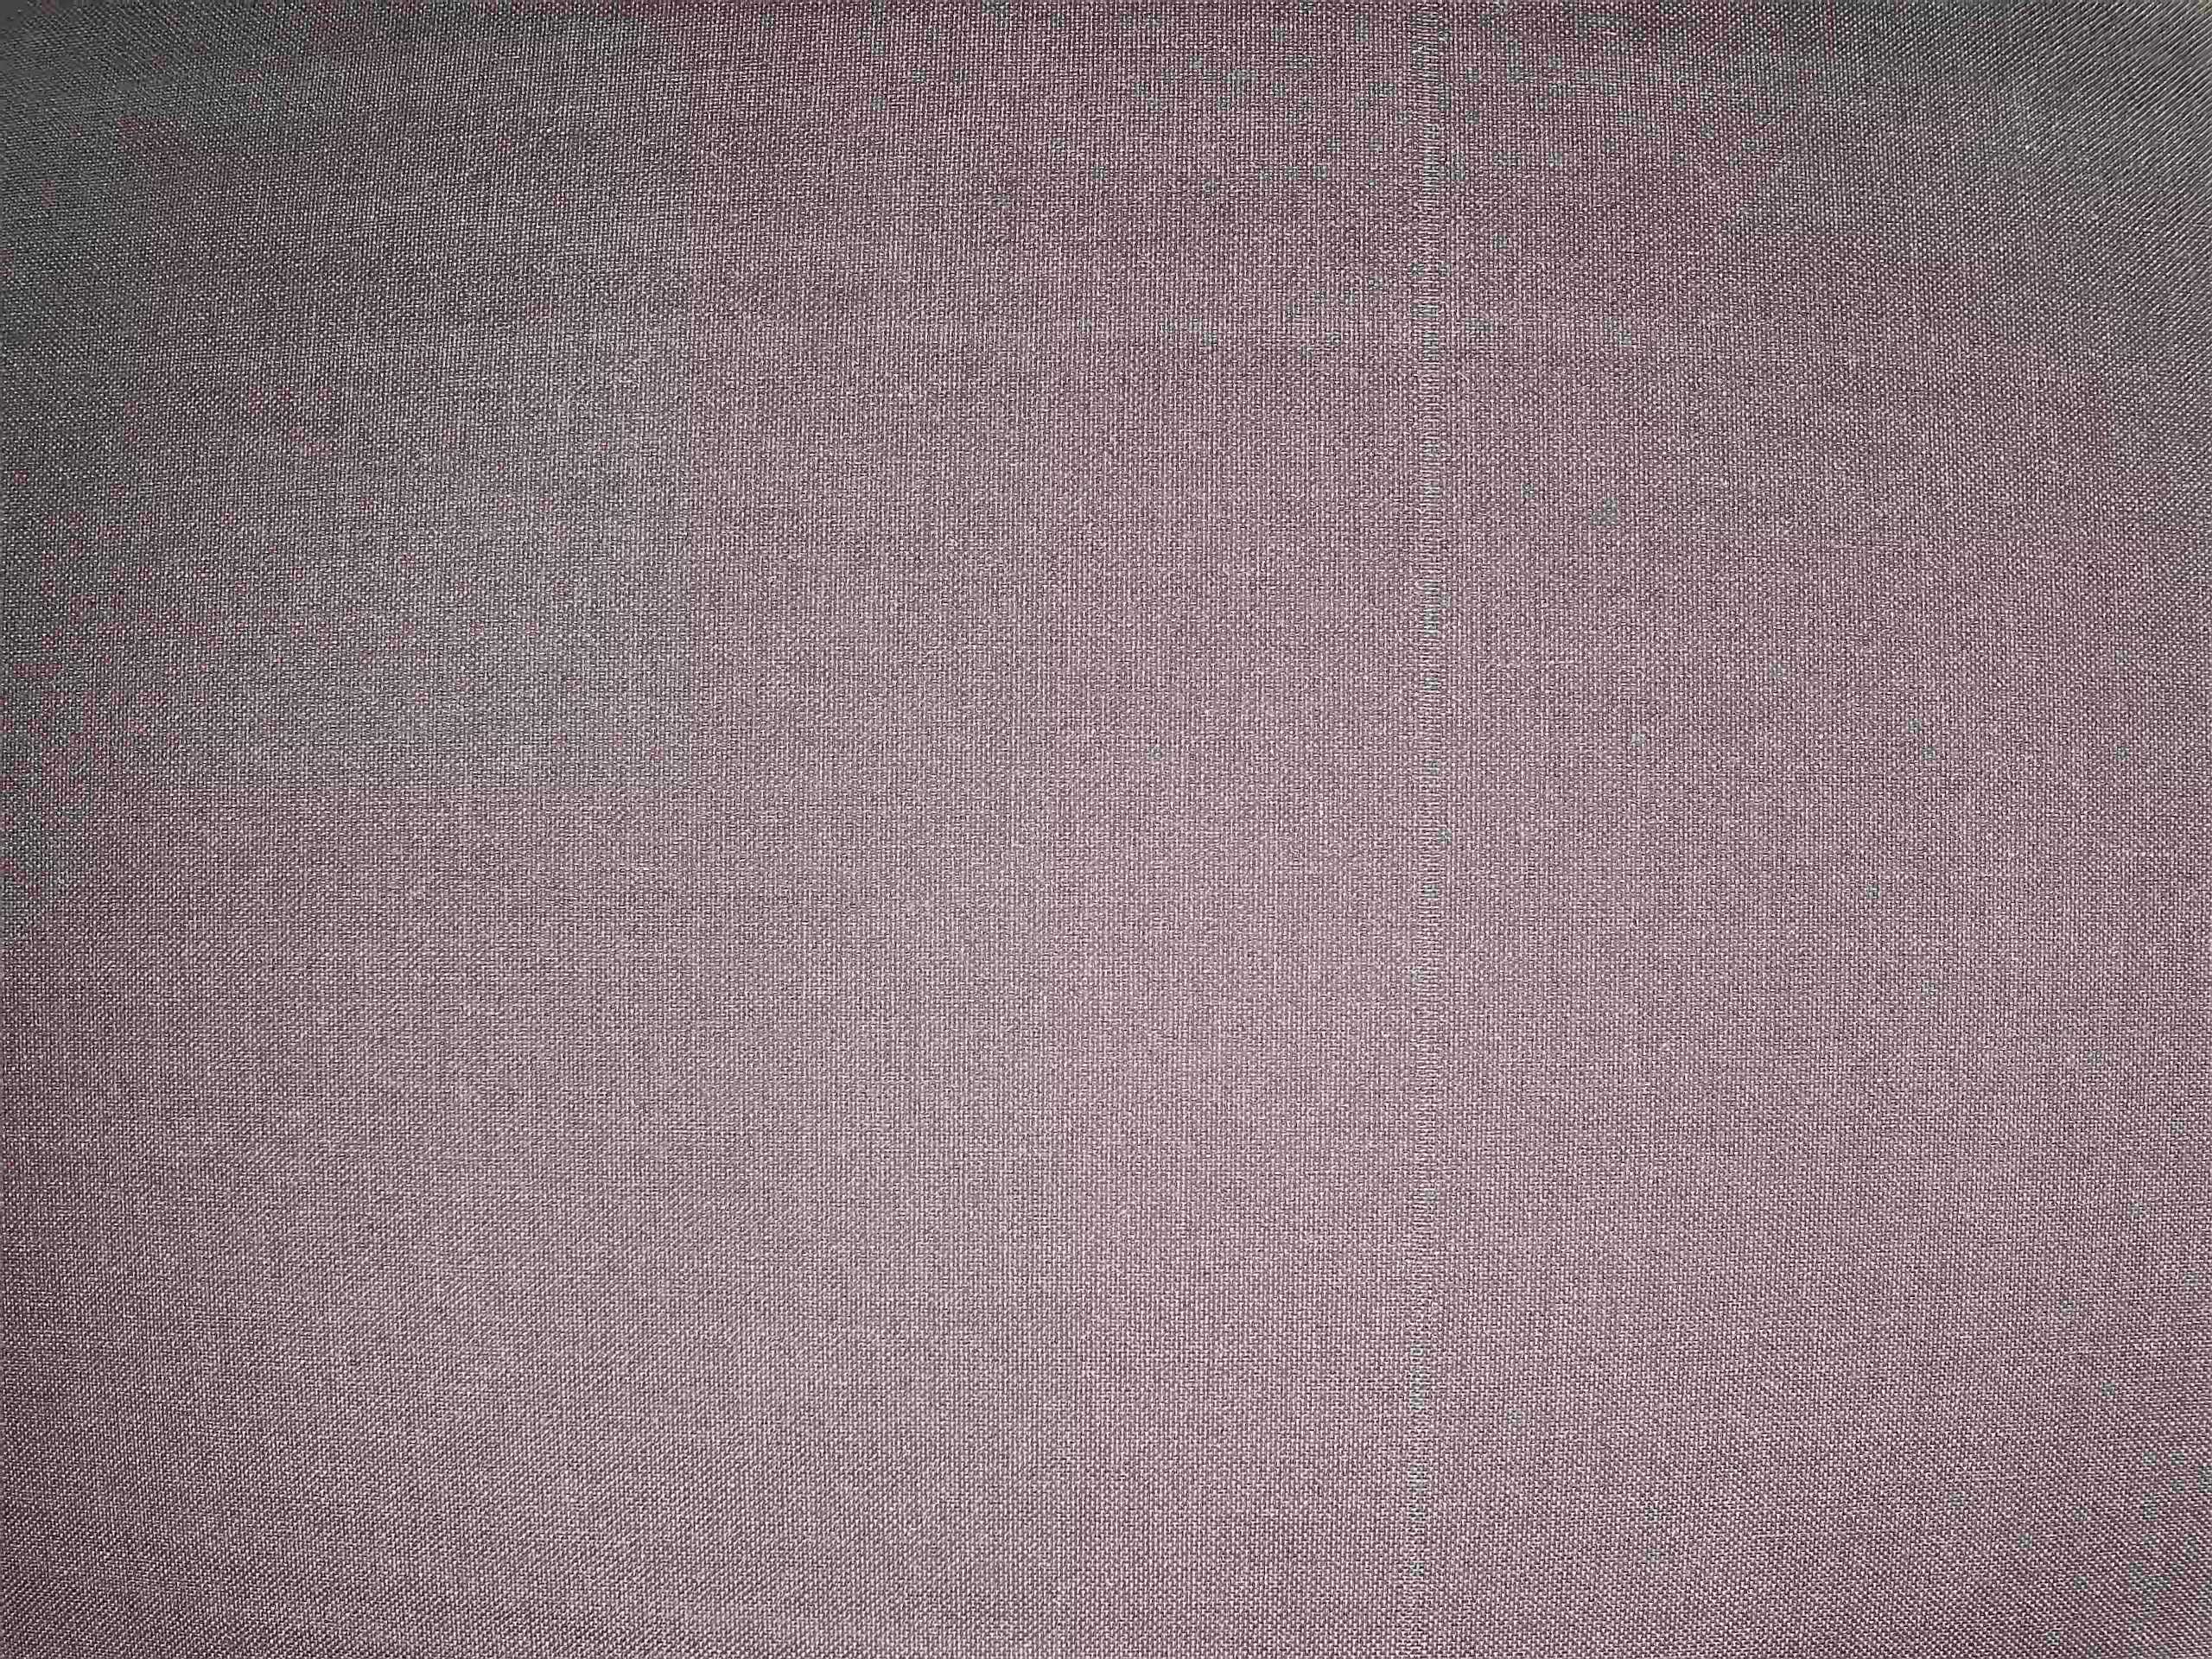lacking-warp: (1392, 17, 1458, 1628)
